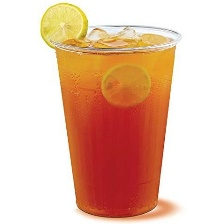glass: (35, 19, 191, 224)
